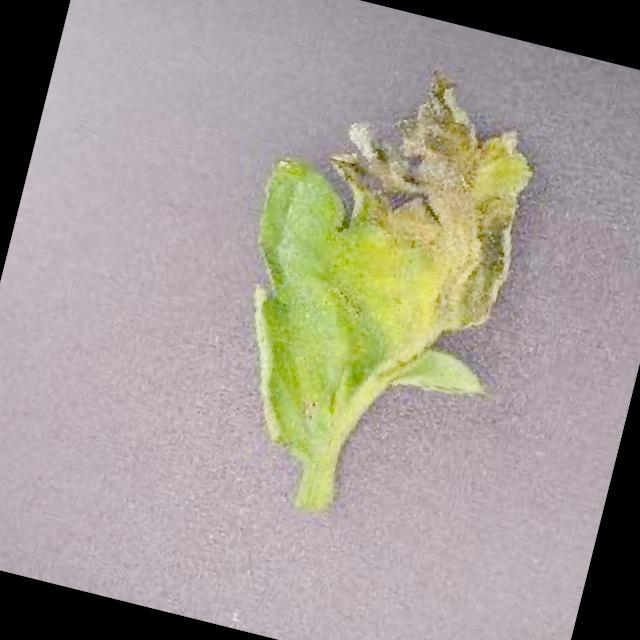Tomato late blight leaf: (204, 36, 557, 502)
